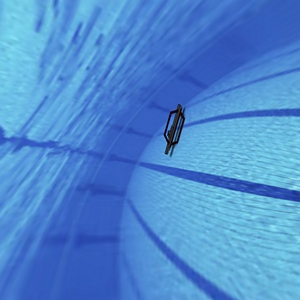submarine: (148, 80, 194, 167)
